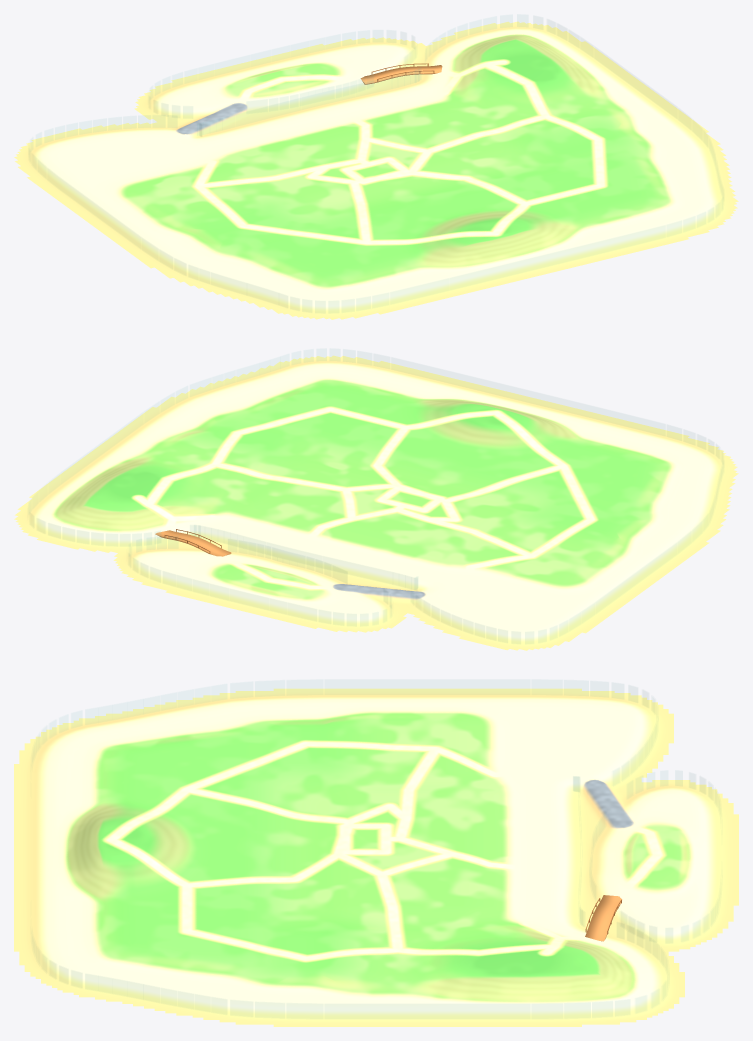
The picture shows the model from 3 angles, top to bottom: view 1: azimuth 30°, elevation 25°; view 2: azimuth 150°, elevation 25°; view 3: azimuth 270°, elevation 25°; orthographic projection. The views are drawn at different scales.
Visible parts, largest first — view 1: WindWaker_Bay_Terrain, F37_West_Arch_Bridge; view 2: WindWaker_Bay_Terrain, F37_West_Arch_Bridge; view 3: WindWaker_Bay_Terrain, F37_West_Arch_Bridge.
Part boxes in pixels (x1,y1,x2,y2): WindWaker_Bay_Terrain: (14,21,738,319); F37_West_Arch_Bridge: (360,65,442,84); WindWaker_Bay_Terrain: (14,355,738,650); F37_West_Arch_Bridge: (155,530,231,556); WindWaker_Bay_Terrain: (14,688,738,1026); F37_West_Arch_Bridge: (585,895,622,941).
Size of the model in its own units: 148 by 3.7 by 134.
Materials: 5 (1 with a texture image).
